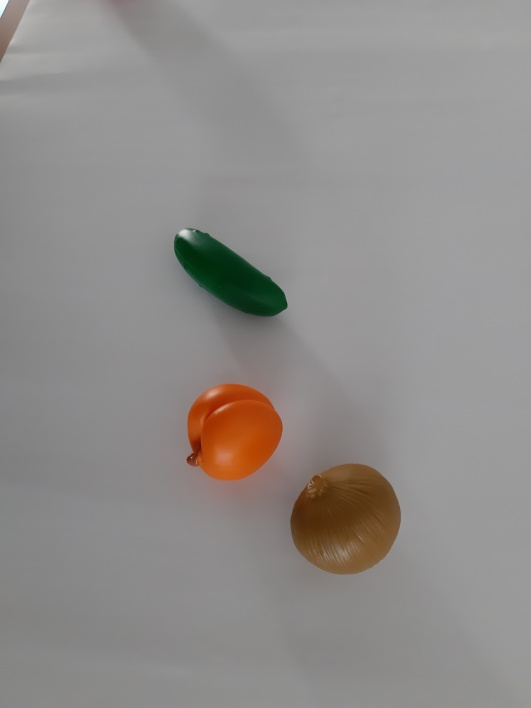apricot: (165, 371, 288, 494)
cucumber: (156, 211, 301, 339)
onion: (280, 457, 415, 583)
